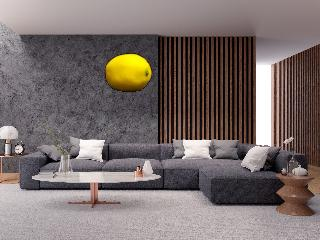lemon: (106, 55, 152, 93)
